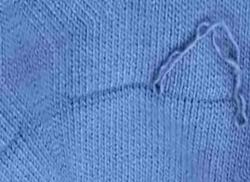snag: (151, 66, 175, 100)
